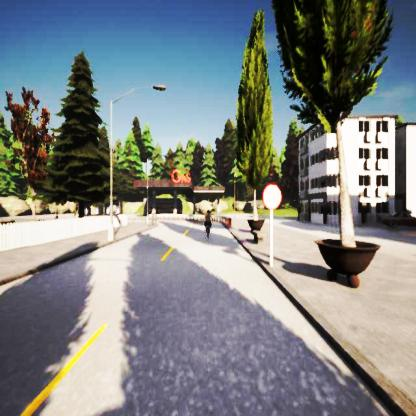motobike: (204, 210, 212, 236)
